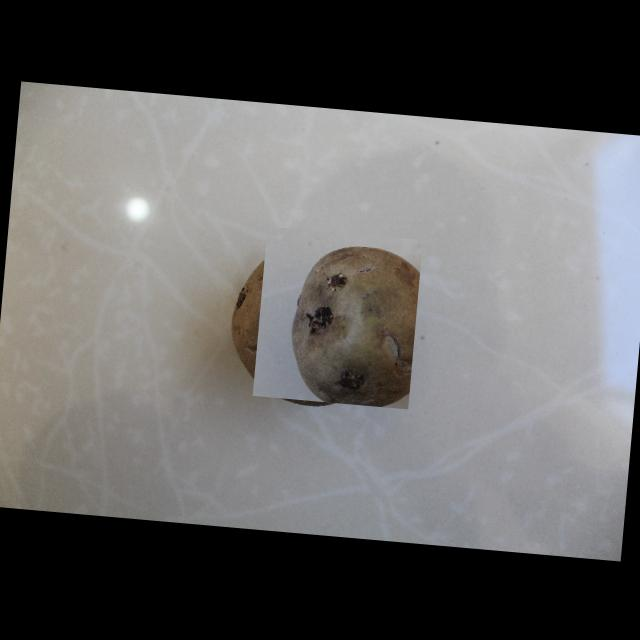Diseased-fungal potato: (252, 225, 422, 408)
